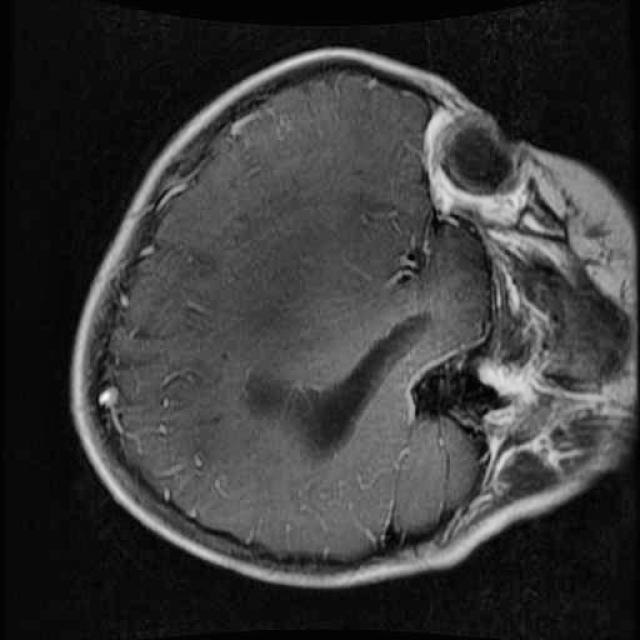Tumor: (219, 287, 447, 479)
